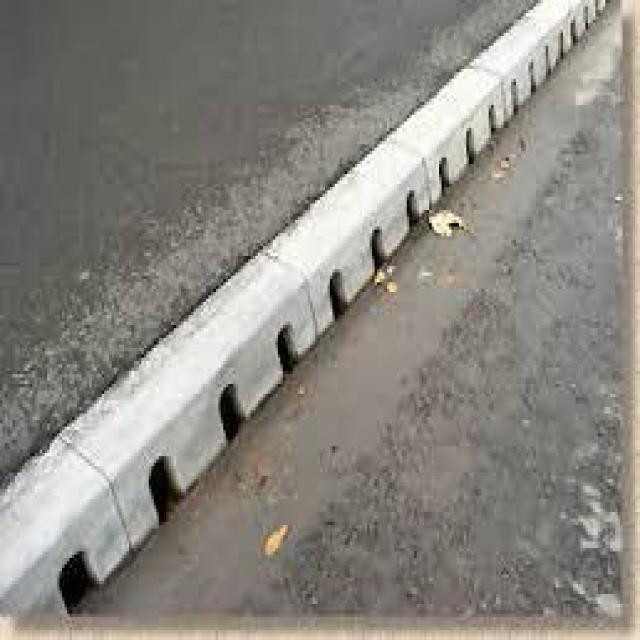bump: (2, 149, 416, 587)
